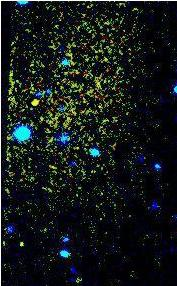star: (19, 86, 49, 116)
